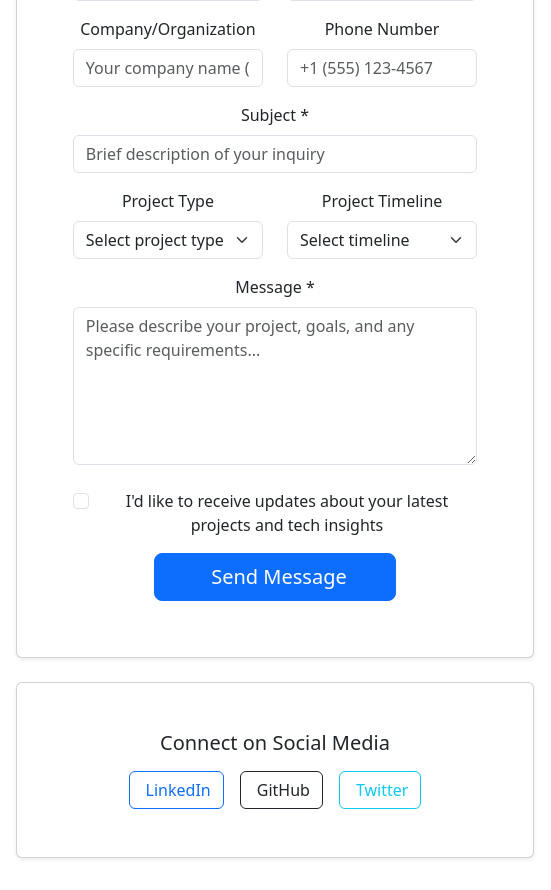
Test: Contact Component › should show validation errors for required fields
(page scrolled)
Try to submit empty form
Click the button "Send Message": (275, 577) top-left (154, 553), bottom-right (396, 601)
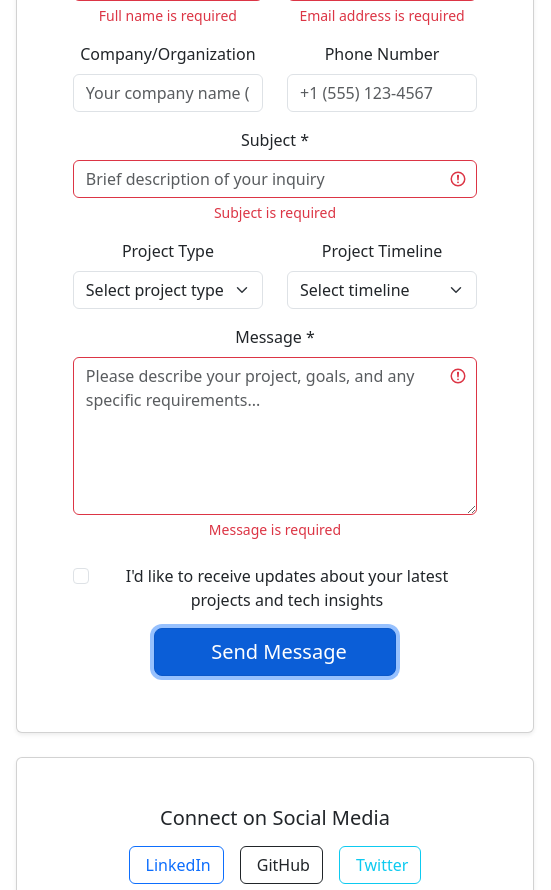
Now the text "Full name is required" is shown, box top-left (99, 6), bottom-right (237, 25)
Now the text "Email address is required" is shown, box top-left (287, 5), bottom-right (477, 26)
Now the text "Subject is required" is shown, box top-left (214, 203), bottom-right (336, 222)
